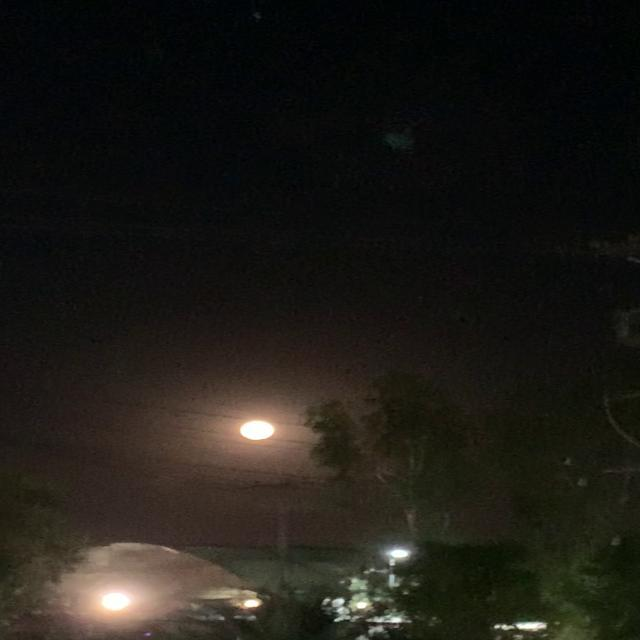moon: (233, 419, 276, 444)
